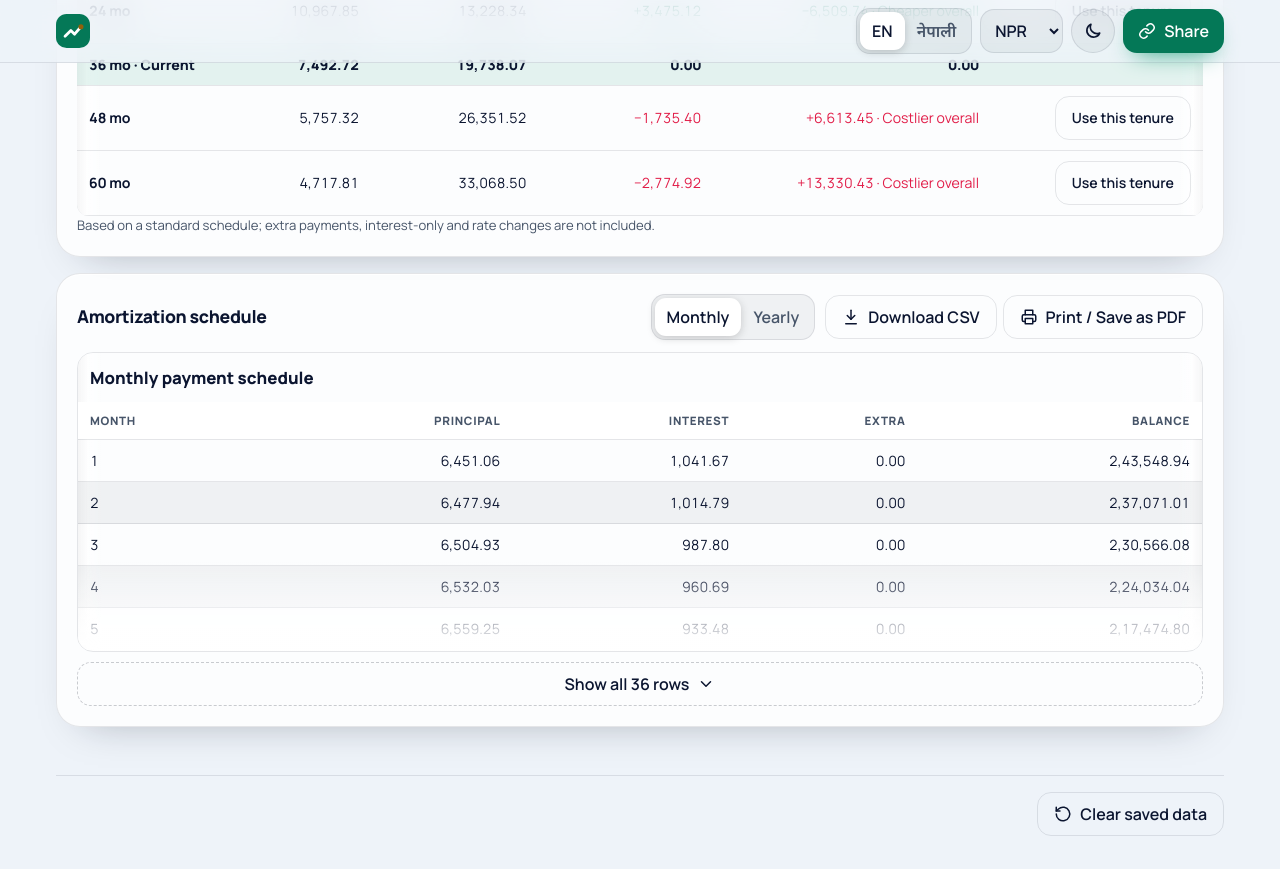
Test: restores saved inputs, URL overrides them, and clear resets
(page scrolled)
Click the button "Clear saved data": [1131, 814] box [1037,792,1224,836]
(page scrolled)
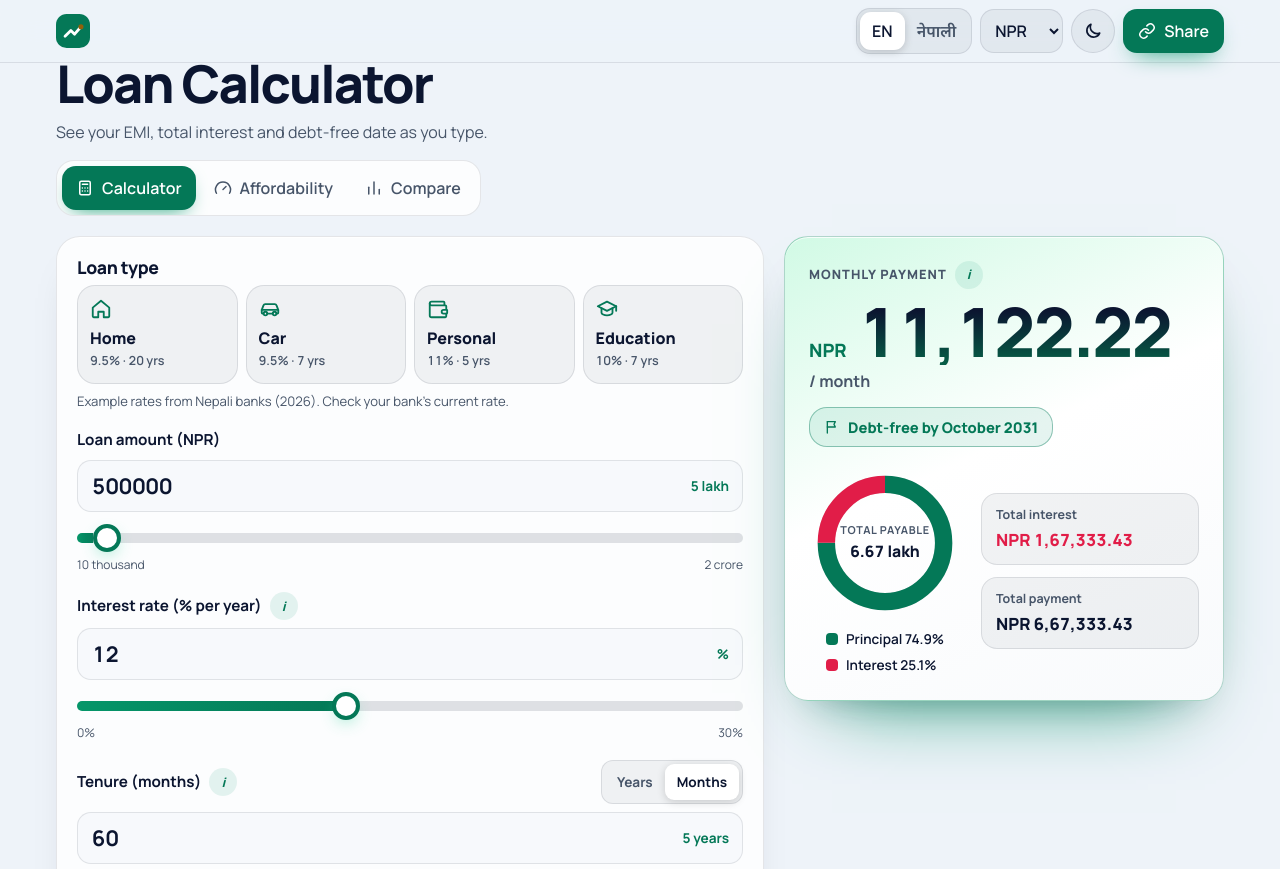
Check: the field labelled "Loan amount (NPR)" holds "500000", box [77,460,743,512]
